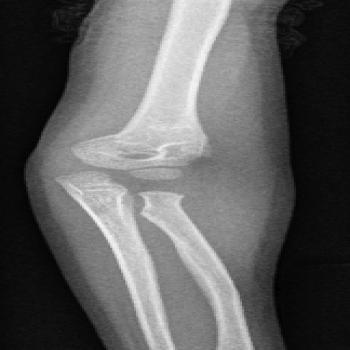Fracture: (121, 161, 204, 218)
